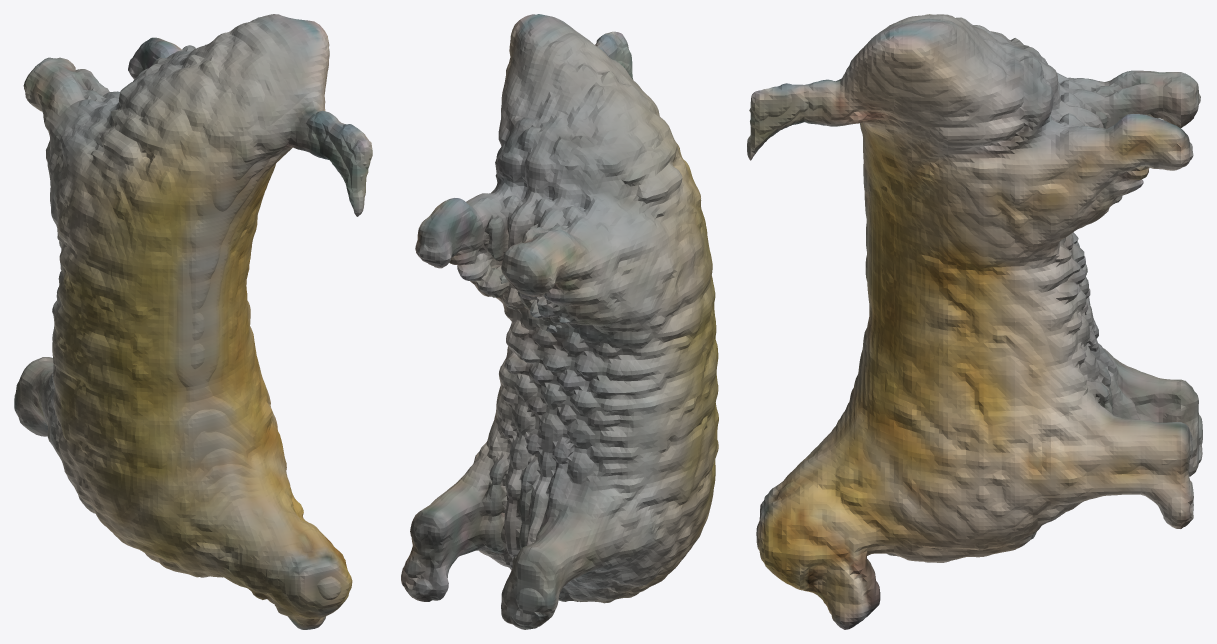
3 views of the same model, side by side, from view 1: azimuth 30°, elevation 25°; view 2: azimuth 150°, elevation 25°; view 3: azimuth 270°, elevation 25° (orthographic). The views are drawn at different scales.
Parts seen in each view (by area): view 1: world; view 2: world; view 3: world.
Part boxes in pixels (box(x1,y1,x2,y2)): world: box(14, 14, 372, 629); world: box(401, 14, 718, 629); world: box(747, 14, 1202, 629).
Bounding box in the file's own units: 0.4063 × 1.02 × 0.6939.
